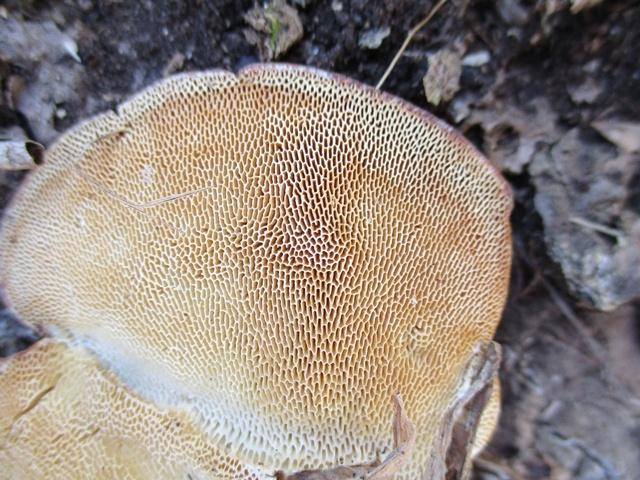Non-edible Mushroom: (1, 60, 516, 478)
